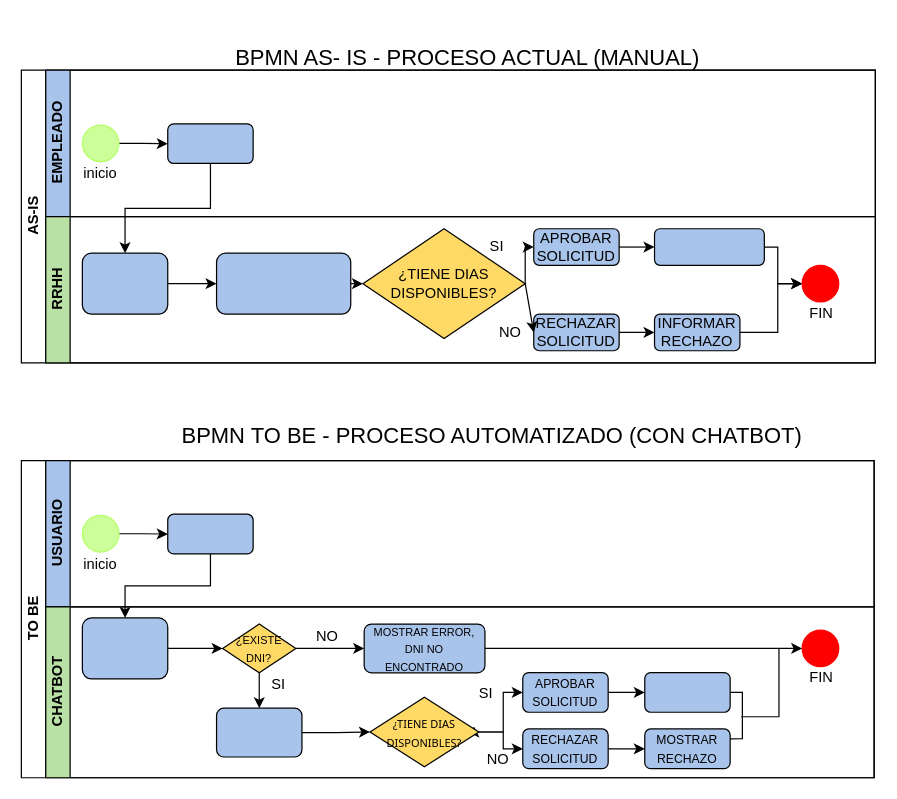
The diagram is 897 pixels wide and 799 high, and some of its shapes have lost their labels. Each missing label, with the centre of its shape:
"CONSULTAR EMPLEADOS EN EXCEL" belongs at [124,648].
"CONSULTAR REGISTRO DE VACACIONES" belongs at [283,283].
"INFORMAR APROBACION" belongs at [708,246].
"INGRESAR DNI" belongs at [210,533].
"MOSTRAR APROBACION" belongs at [687,691].
"RECIBIR SOLICITUD" belongs at [124,283].
"SOLICITAR VACACIONES" belongs at [210,143].
"VERIFICAR DIAS DISPONIBLES" belongs at [258,732].
